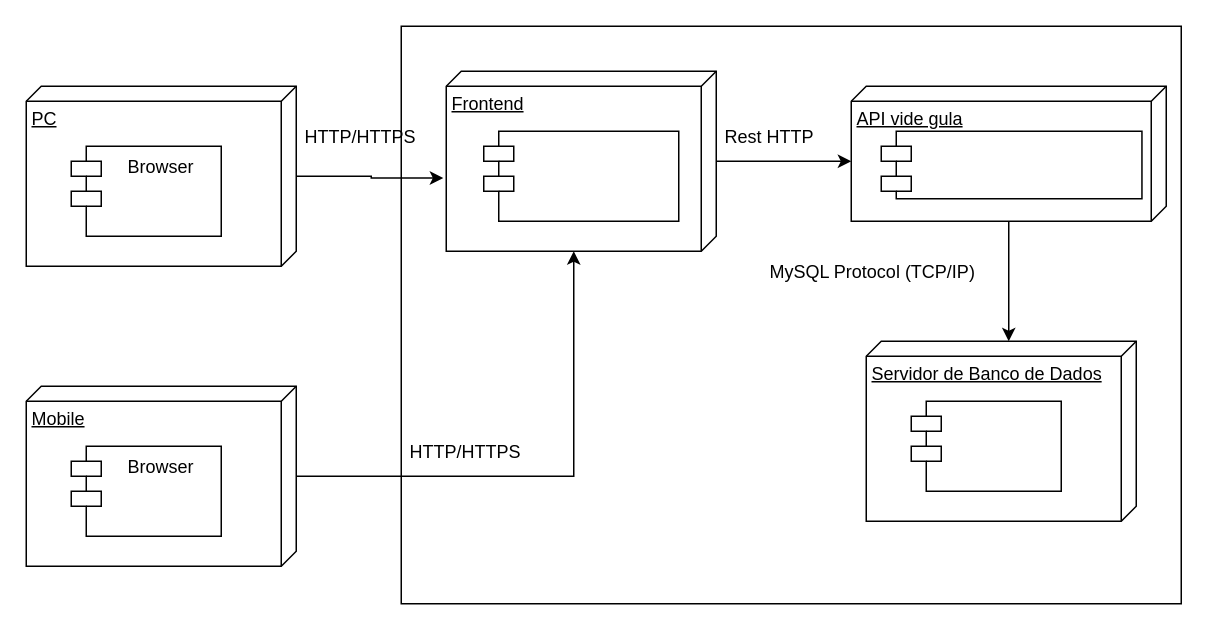
Image size: 1208x630. Some labels were removed from this diagram. The centre of each missing label's shape, as x and y in pixels:
"(React/HTML/CSS)" belongs at point 580,175.
"<<executionEnvironment>> Node.js + express" belongs at point 1011,164.
"MySQL" belongs at point 985,445.
